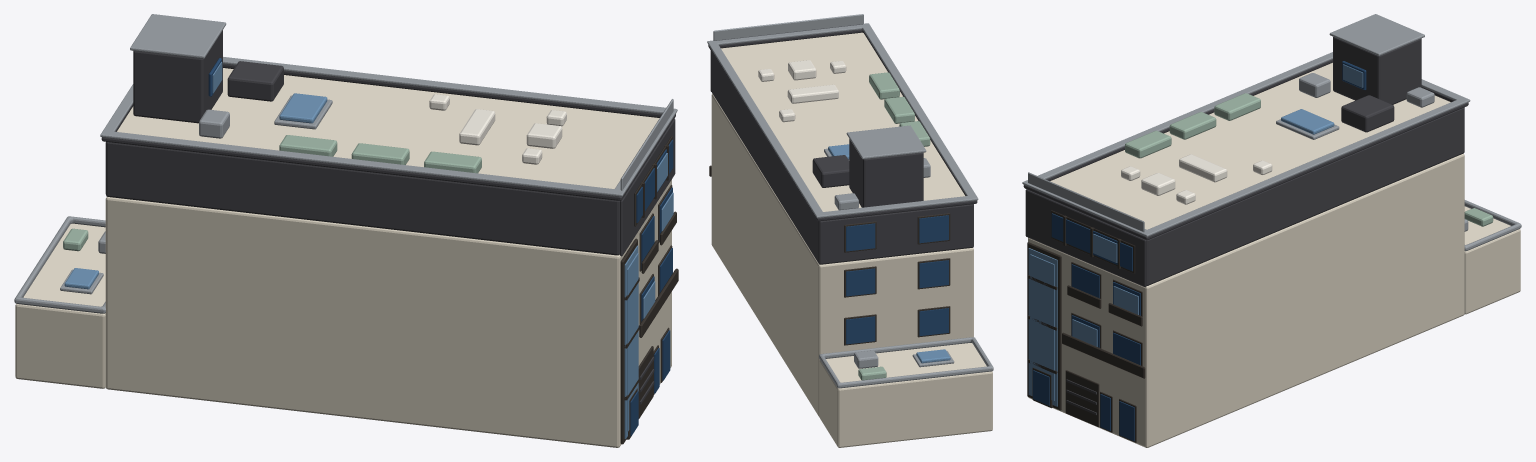
The model's file is 58-south-park.glb.
The picture shows the model from 3 angles, left to right: view 1: azimuth 30°, elevation 25°; view 2: azimuth 150°, elevation 25°; view 3: azimuth 270°, elevation 25°; orthographic projection. The views are drawn at different scales.
Visible parts, largest first — view 1: body_plaster, body_cap, grp_Toy_steel, grp_Toy_roofd, rear_low, grp_Toy_ink, grp_Toy_verdigris, grp_Toy_glass, grp_Toy_glass_Glow, grp_Toy_trim, grp_Toy_glassl; view 2: body_plaster, body_cap, rear_low, grp_Toy_steel, grp_Toy_roofd, grp_Toy_glass, grp_Toy_verdigris, grp_Toy_trim, grp_Toy_ink, grp_Toy_glassl; view 3: body_plaster, body_cap, grp_Toy_roofd, grp_Toy_steel, grp_Toy_ink, grp_Toy_glass, grp_Toy_glass_Glow, rear_low, grp_Toy_verdigris, grp_Toy_trim, grp_Toy_glassl.
Boxes of the visible parts, bbox=[...] form: body_plaster: bbox=[105, 179, 671, 447]; body_cap: bbox=[105, 68, 659, 255]; grp_Toy_steel: bbox=[14, 14, 677, 313]; grp_Toy_roofd: bbox=[101, 30, 675, 404]; rear_low: bbox=[15, 223, 105, 388]; grp_Toy_ink: bbox=[620, 136, 678, 444]; grp_Toy_verdigris: bbox=[63, 135, 481, 251]; grp_Toy_glass: bbox=[208, 58, 673, 436]; grp_Toy_glass_Glow: bbox=[212, 62, 673, 431]; grp_Toy_trim: bbox=[429, 94, 566, 164]; grp_Toy_glassl: bbox=[64, 93, 638, 439]; body_plaster: bbox=[711, 93, 973, 417]; body_cap: bbox=[711, 32, 973, 264]; rear_low: bbox=[819, 343, 992, 447]; grp_Toy_steel: bbox=[707, 14, 993, 388]; grp_Toy_roofd: bbox=[708, 29, 977, 221]; grp_Toy_glass: bbox=[846, 215, 948, 344]; grp_Toy_verdigris: bbox=[858, 72, 930, 380]; grp_Toy_trim: bbox=[758, 60, 846, 122]; grp_Toy_ink: bbox=[709, 165, 950, 345]; grp_Toy_glassl: bbox=[828, 144, 950, 363]; body_plaster: bbox=[1028, 153, 1464, 447]; body_cap: bbox=[1050, 62, 1464, 285]; grp_Toy_roofd: bbox=[1023, 37, 1468, 414]; grp_Toy_steel: bbox=[1022, 14, 1521, 251]; grp_Toy_ink: bbox=[1027, 210, 1145, 442]; grp_Toy_glass: bbox=[1033, 61, 1366, 441]; grp_Toy_glass_Glow: bbox=[1030, 64, 1363, 400]; rear_low: bbox=[1464, 206, 1520, 314]; grp_Toy_verdigris: bbox=[1125, 93, 1493, 226]; grp_Toy_trim: bbox=[1121, 154, 1272, 204]; grp_Toy_glassl: bbox=[1028, 109, 1334, 406].
Size of the model in its own units: 28.38 by 16.9 by 28.49.
